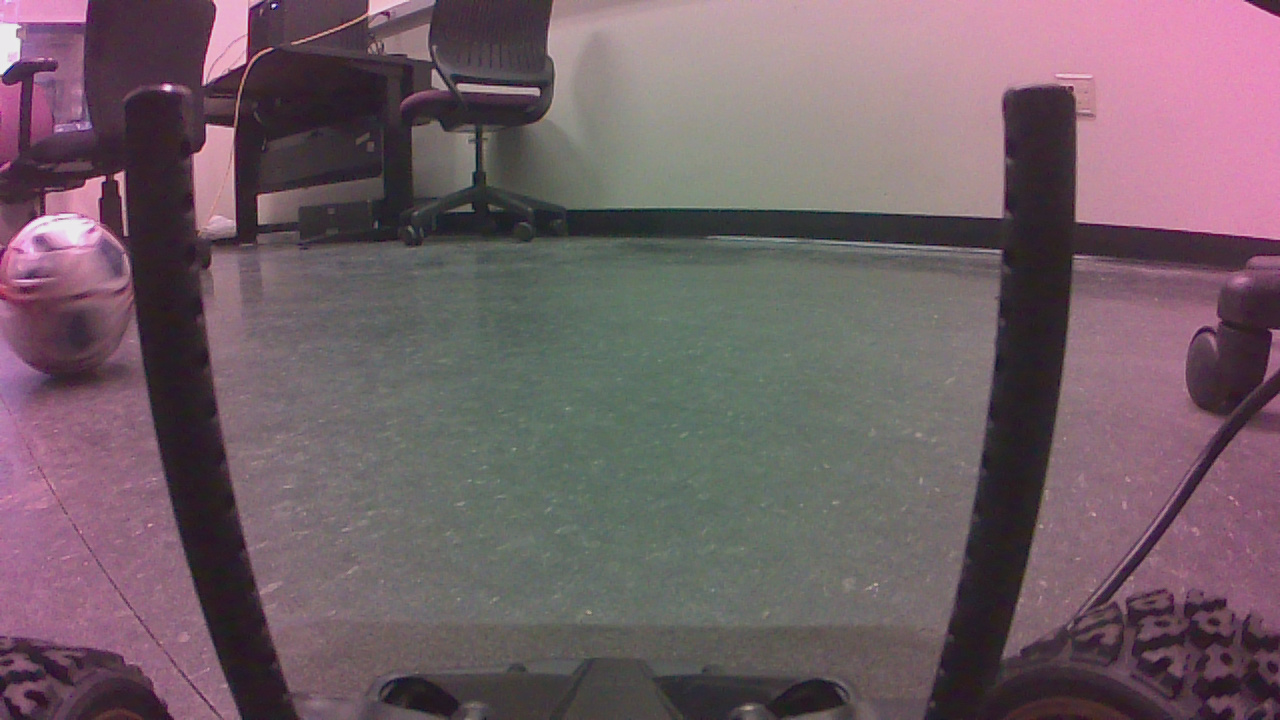ball: (8, 218, 139, 381)
